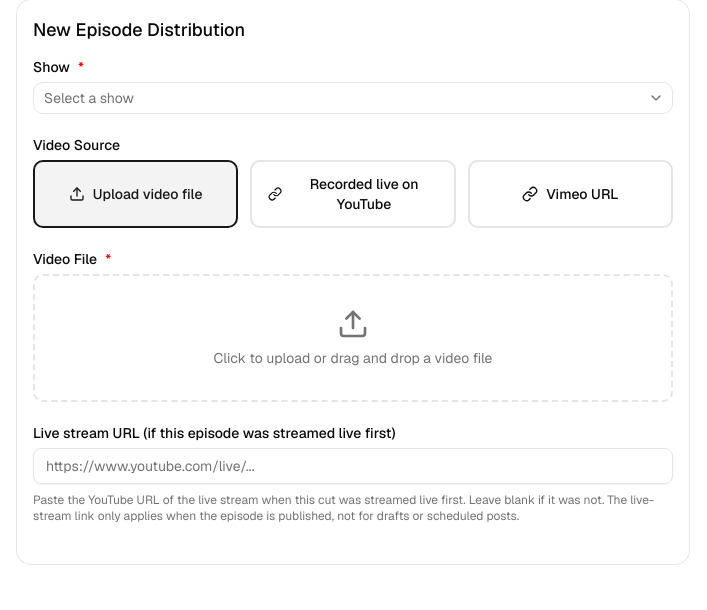
distribution live stream URL field › says when no live post matches and still leaves submit available
Click the dropdown. click: (89, 98)
box: [33, 82, 673, 114]
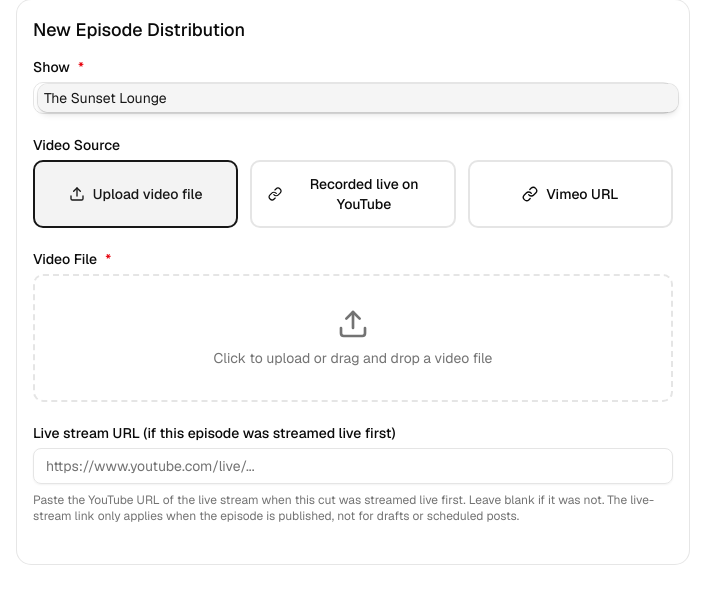
Click the option "The Sunset Lounge". click: (105, 98)
box: [38, 84, 678, 112]
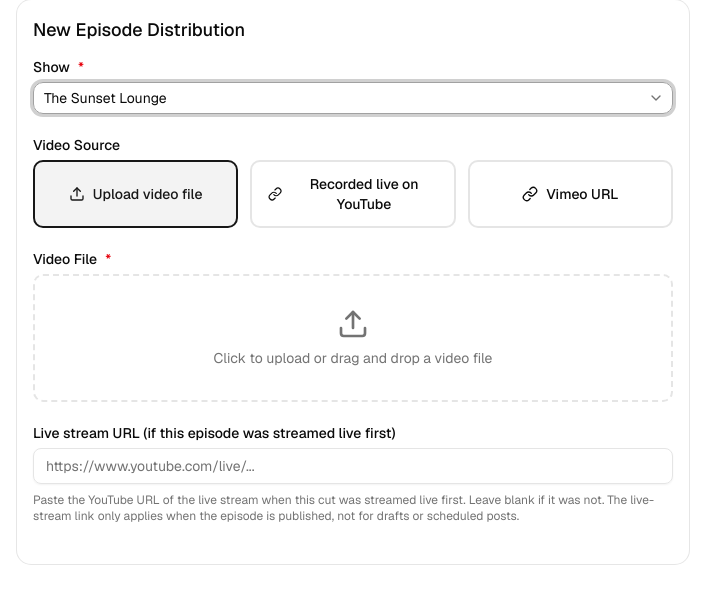
Type "https://www.youtube.com/live/sLB7STNGACI" into the field labelled "Live stream URL (if this episode was streamed live first)". click: (353, 466)
box: [33, 448, 673, 484]
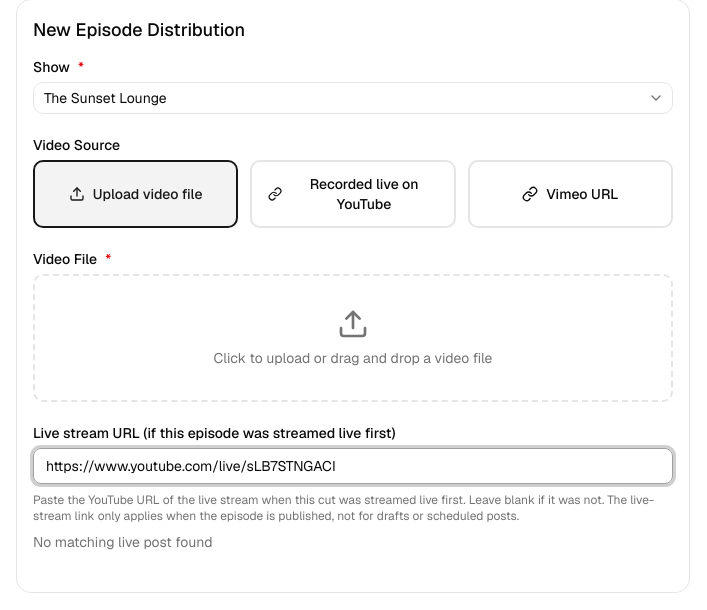
Expected: the text "No matching live post found" is shown, [33, 533, 212, 551]
